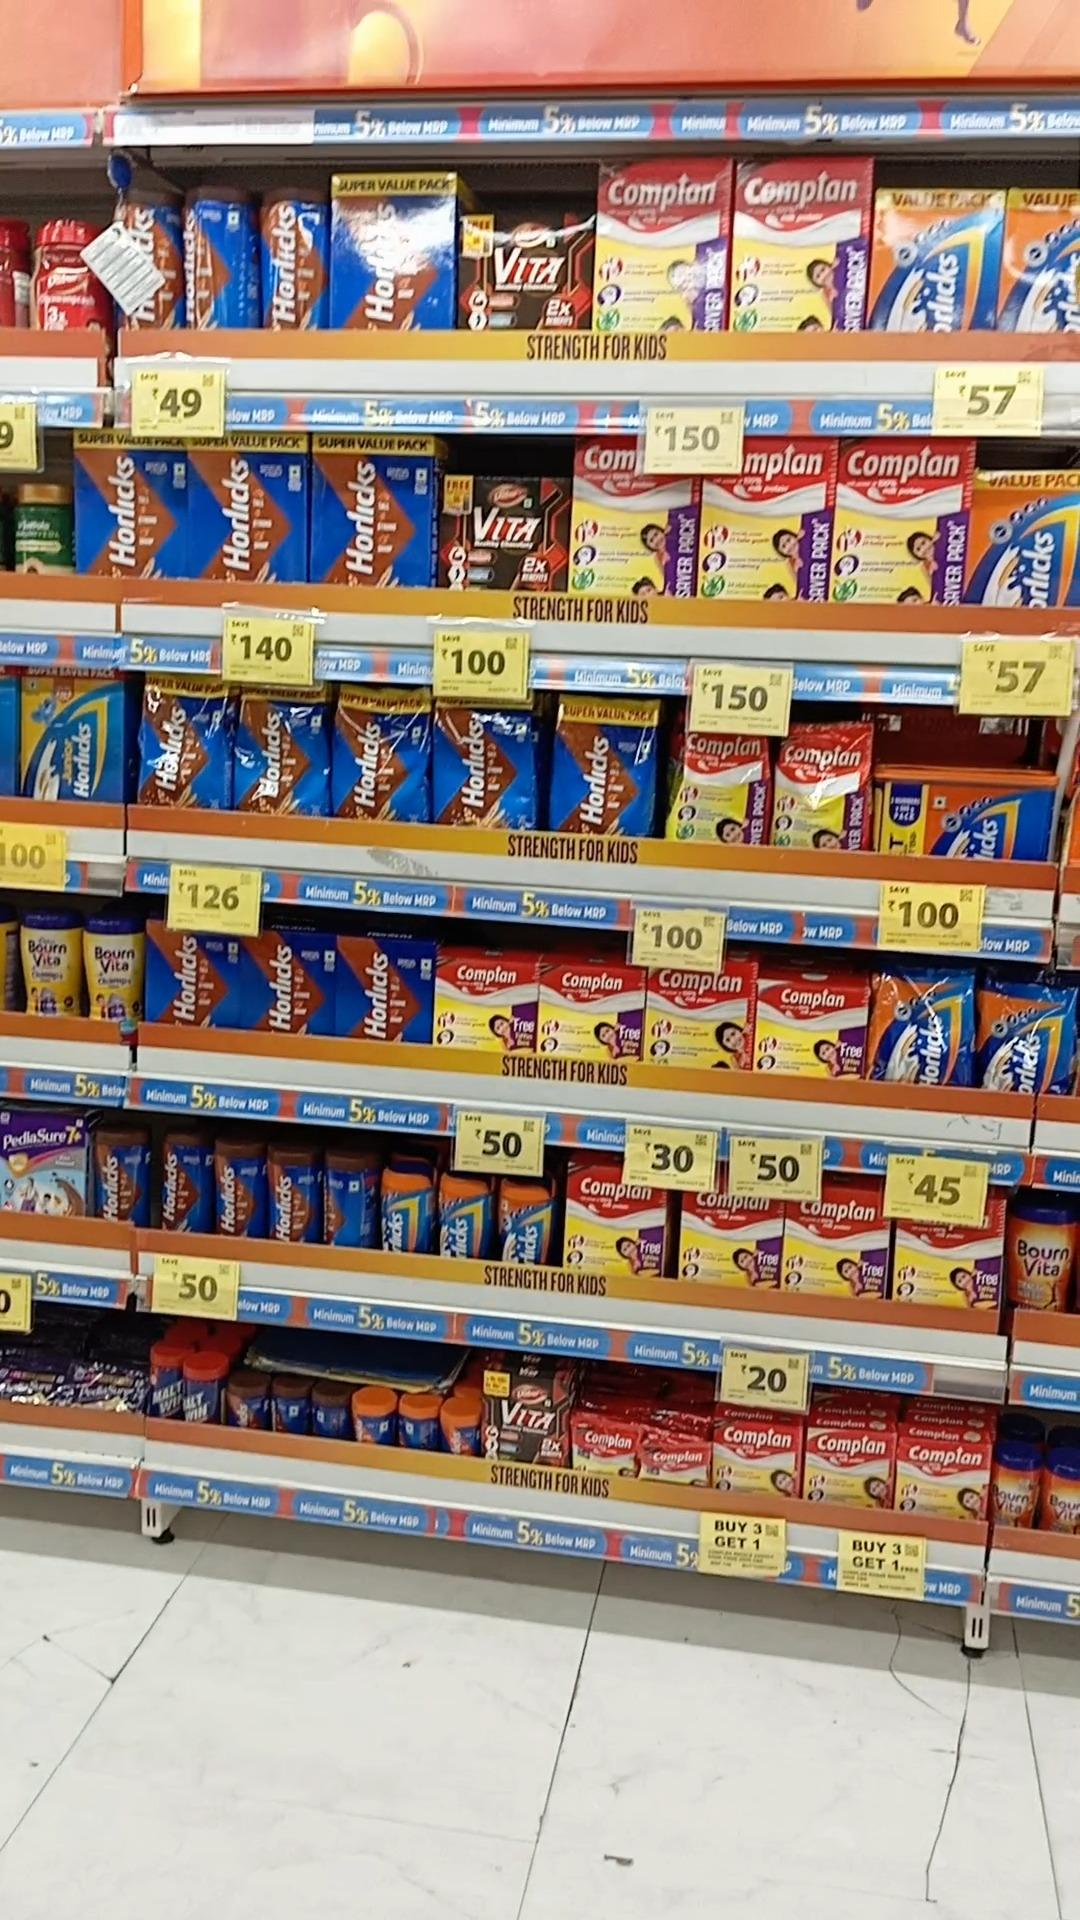BOURN_VITA_200_G_JAR: (992, 1449, 1039, 1527), (1044, 1456, 1080, 1535)
BOURN_VITA_500_G_JAR: (1007, 1201, 1072, 1315)
BOURN_VITA_CHAMPS_500_G_JAR: (79, 919, 138, 1029), (20, 914, 75, 1014)
COMPLAN_CHOCOLATE_1_KG_PACK: (837, 439, 971, 609), (735, 158, 861, 336), (595, 158, 721, 332), (571, 435, 695, 600), (709, 443, 828, 604)
COMPLAN_CHOCOLATE_200_GMS_PACK: (712, 1418, 799, 1501)
COMPLAN_CHOCOLATE_500_GMS_PACK: (566, 1164, 663, 1278), (434, 952, 538, 1055), (537, 965, 641, 1062)
COMPLAN_CREAMY_CLASSIC_500_G_PACK: (756, 976, 864, 1077)
COMPLAN_KESAR_BADAM_200_GMS_PACK: (804, 1425, 889, 1513)
COMPLAN_RC_POUCH_700_GMS_12: (775, 727, 870, 851), (679, 732, 769, 849)
HORLICK_CHOCOLATE_1_KG_JAR: (182, 191, 255, 330), (258, 187, 326, 331), (113, 182, 178, 330)
HORLICK_CHOCOLATE_1_KG_PACK: (334, 171, 456, 334), (314, 433, 431, 592), (190, 435, 305, 584), (76, 429, 181, 576)
HORLICK_CHOCOLATE_500_G_JAR: (211, 1138, 261, 1234), (266, 1146, 315, 1244), (161, 1137, 208, 1233), (94, 1133, 144, 1221), (320, 1153, 360, 1247)
HORLICK_CHOCOLATE_500_G_PACK: (336, 939, 429, 1044), (144, 926, 233, 1027), (240, 935, 323, 1034)
HORLICK_CHOCOLATE_750_G_POUCH: (433, 698, 533, 829), (556, 698, 653, 835), (335, 682, 430, 820), (235, 683, 327, 818), (141, 673, 228, 808)
HORLICK_CLASSIC_MALT_500_G_JAR: (497, 1176, 549, 1265), (381, 1166, 433, 1253), (439, 1176, 489, 1262)
HORLICK_CLASSIC_MALT_500_G_PACK: (873, 193, 1000, 334), (976, 475, 1080, 613), (1005, 187, 1080, 331)
HORLICK_CLASSIC_MALT_750_G_POUCH: (877, 971, 972, 1088), (978, 978, 1069, 1095)
PEDIASURE_7_PLUS_CHOCOLATE_400_G_PACK: (0, 1112, 90, 1216)
